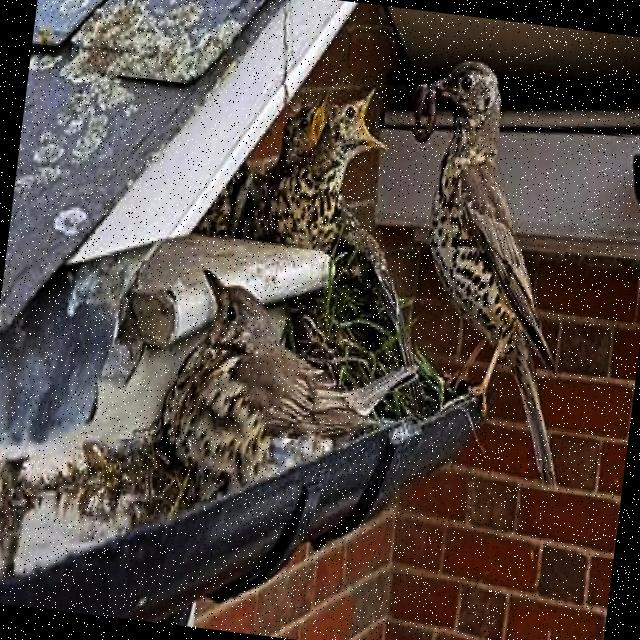bird: (358, 50, 610, 487), (138, 265, 495, 561), (237, 70, 395, 258)
